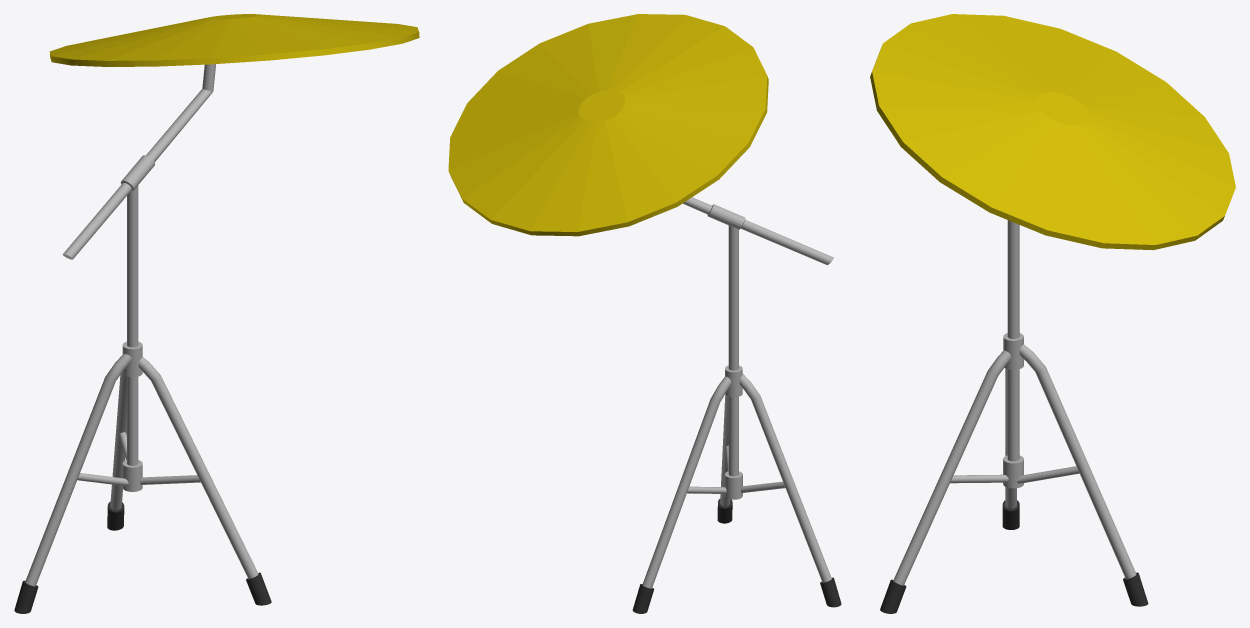
The model's file is ridesymbal.fbx.
The picture shows the model from 3 angles, left to right: view 1: azimuth 30°, elevation 25°; view 2: azimuth 150°, elevation 25°; view 3: azimuth 270°, elevation 25°; orthographic projection. The views are drawn at different scales.
Visible parts, largest first — view 1: pCylinder26, pCylinder5; view 2: pCylinder5, pCylinder26; view 3: pCylinder5, pCylinder26.
Boxes of the visible parts, x1,y1,x2,y2 form: pCylinder26: [14, 64, 271, 613]; pCylinder5: [49, 14, 419, 66]; pCylinder5: [448, 14, 768, 236]; pCylinder26: [632, 197, 841, 613]; pCylinder5: [870, 14, 1235, 250]; pCylinder26: [880, 220, 1148, 613].
Size of the model in its own units: 18.09 by 24.06 by 13.86.
